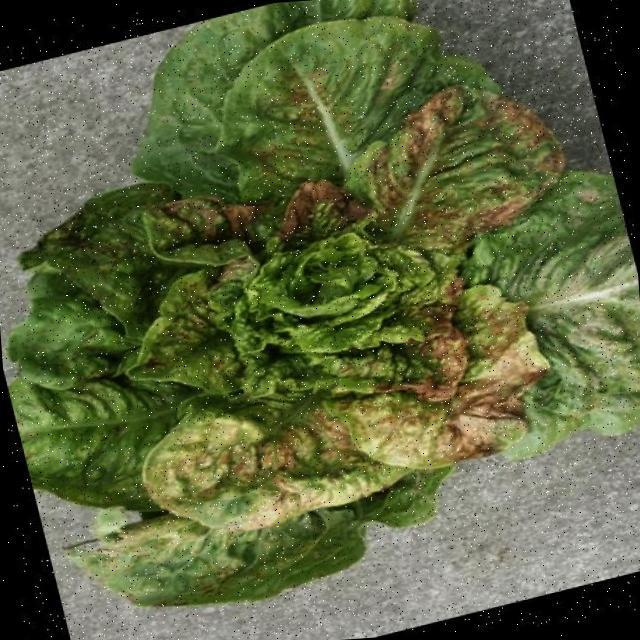Lettuce Mosaic Virus: (90, 36, 639, 547)
